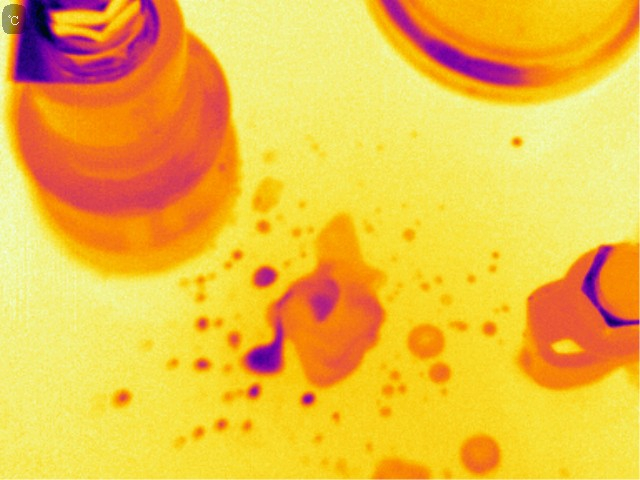Water: (240, 219, 380, 382), (185, 313, 247, 366), (460, 428, 507, 478), (172, 418, 258, 445), (404, 323, 456, 363), (247, 176, 284, 212), (371, 459, 431, 480), (384, 371, 405, 418), (106, 383, 138, 410), (245, 266, 280, 286), (416, 268, 443, 291), (192, 270, 205, 307), (245, 384, 275, 400), (250, 218, 272, 237), (225, 243, 245, 262), (491, 245, 502, 276), (216, 255, 232, 276), (401, 226, 419, 243), (299, 390, 317, 406), (484, 319, 497, 337), (330, 408, 344, 423), (310, 435, 328, 445), (441, 291, 453, 304), (465, 274, 477, 285), (511, 137, 524, 147)
